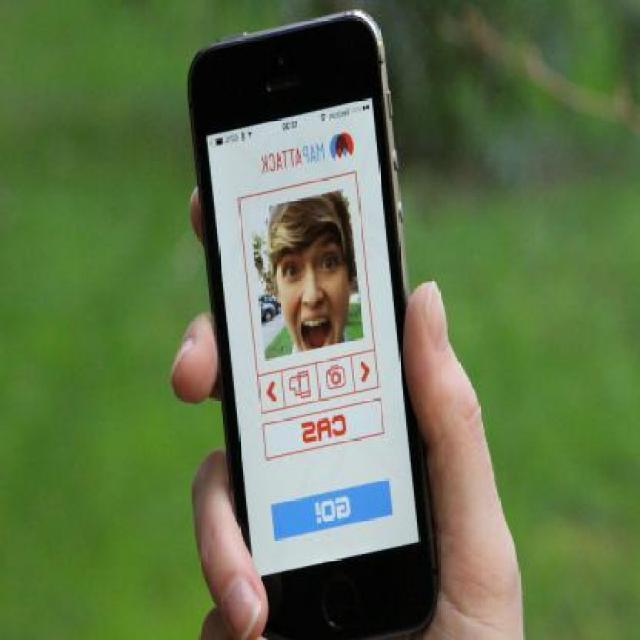phone: (187, 9, 439, 640)
